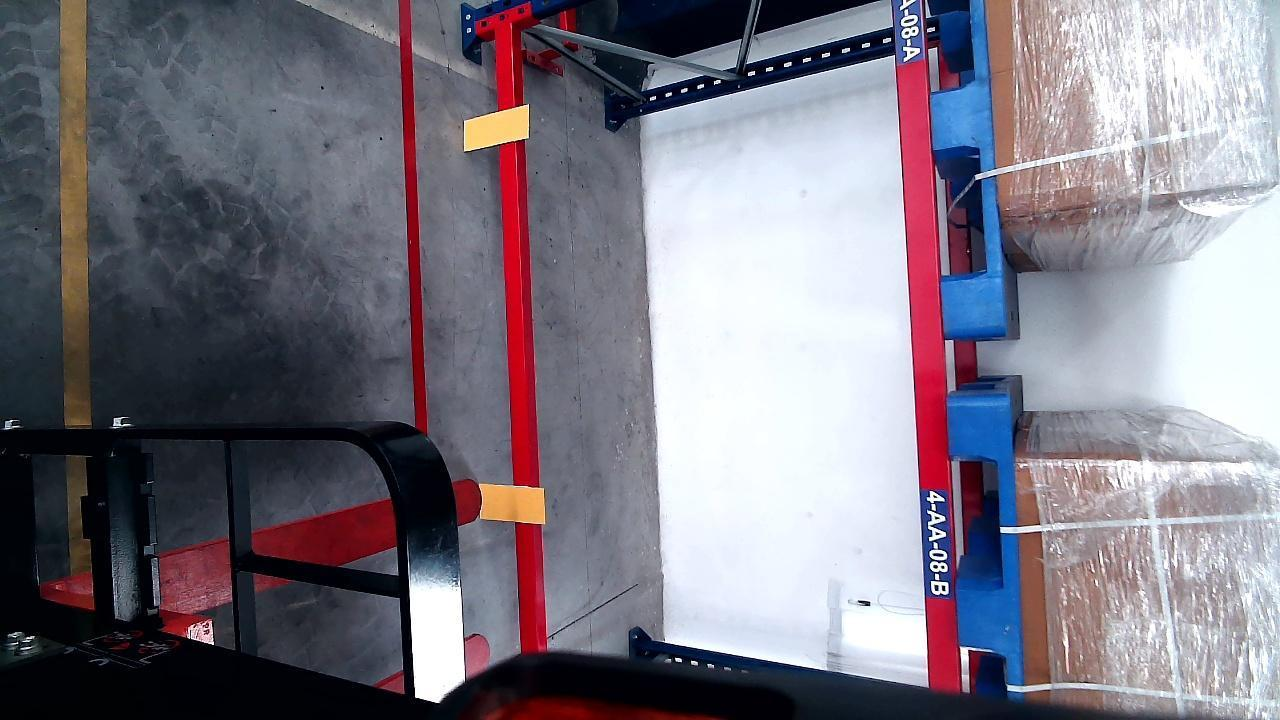h_rack: (893, 0, 959, 692), (492, 6, 544, 669)
orange_strip: (462, 105, 528, 151), (477, 483, 544, 525)
red_line: (397, 0, 432, 441)
small_pallet: (951, 399, 1022, 694)
yellow_line: (59, 0, 92, 419)
